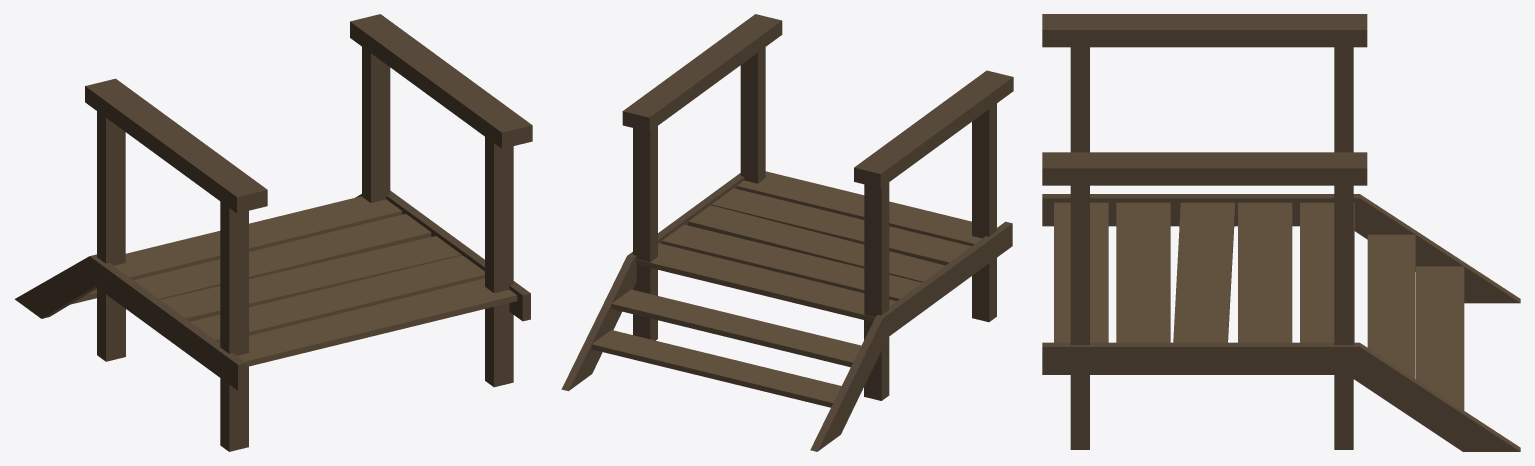
Rendered from SM_stairsRamp_01.glb.
3 renders of one model, left to right at view 1: azimuth 30°, elevation 25°; view 2: azimuth 150°, elevation 25°; view 3: azimuth 270°, elevation 25°, orthographic. The views are drawn at different scales.
Visible parts, largest first — view 1: SM_stairsRamp_01; view 2: SM_stairsRamp_01; view 3: SM_stairsRamp_01.
Boxes of the visible parts, box(x1,y1,x2,y2) form: SM_stairsRamp_01: box(15, 14, 532, 451); SM_stairsRamp_01: box(561, 14, 1013, 451); SM_stairsRamp_01: box(1042, 14, 1520, 451).
Bounding box in the file's own units: 1.81 × 1.55 × 2.37.
Materials: 1 (1 with a texture image).
